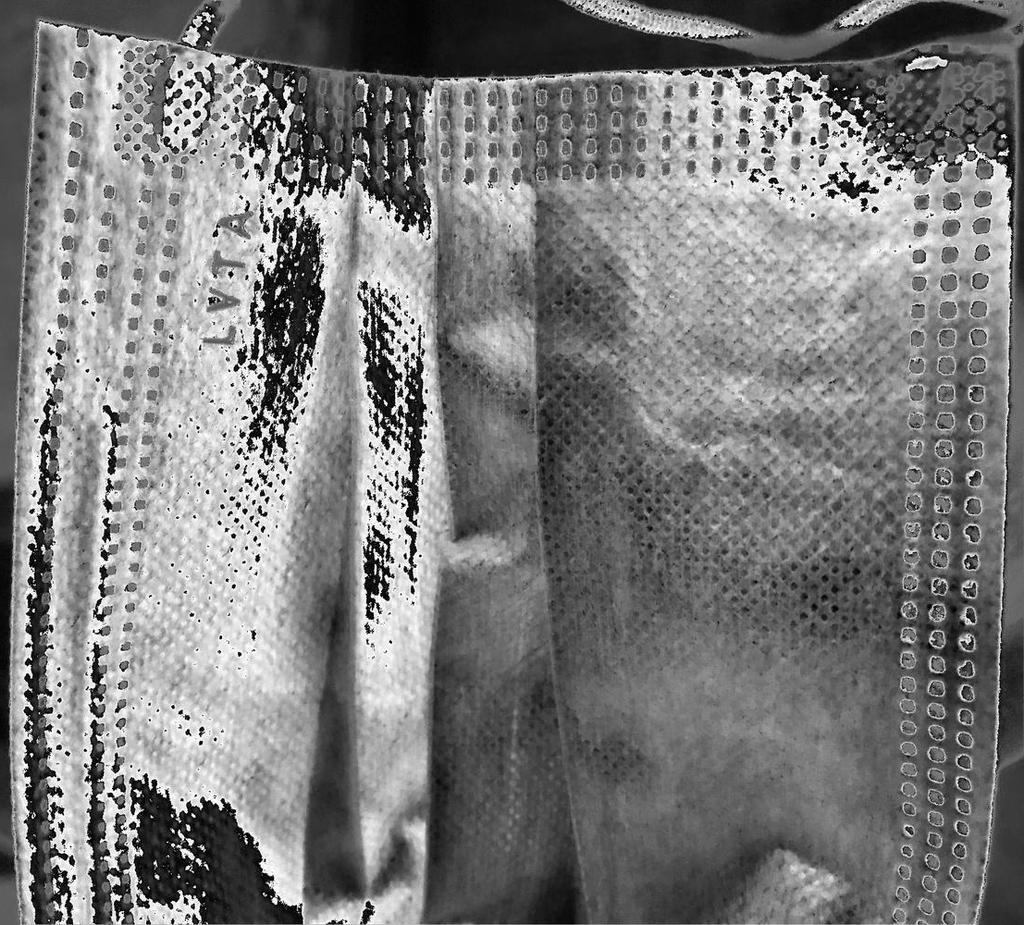High GSM: (6, 13, 1018, 925)
